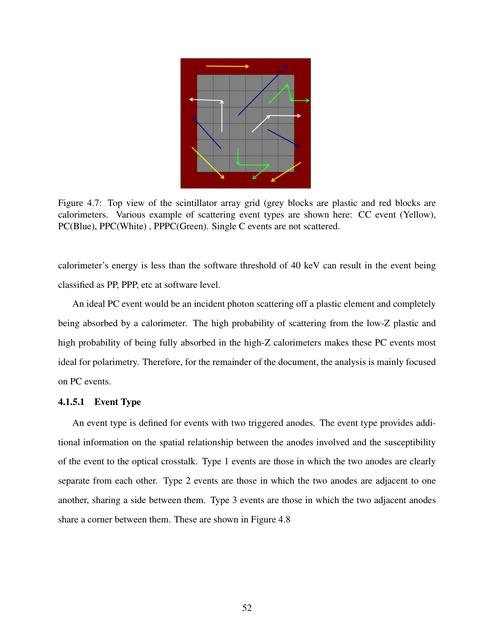box: (179, 57, 314, 190)
